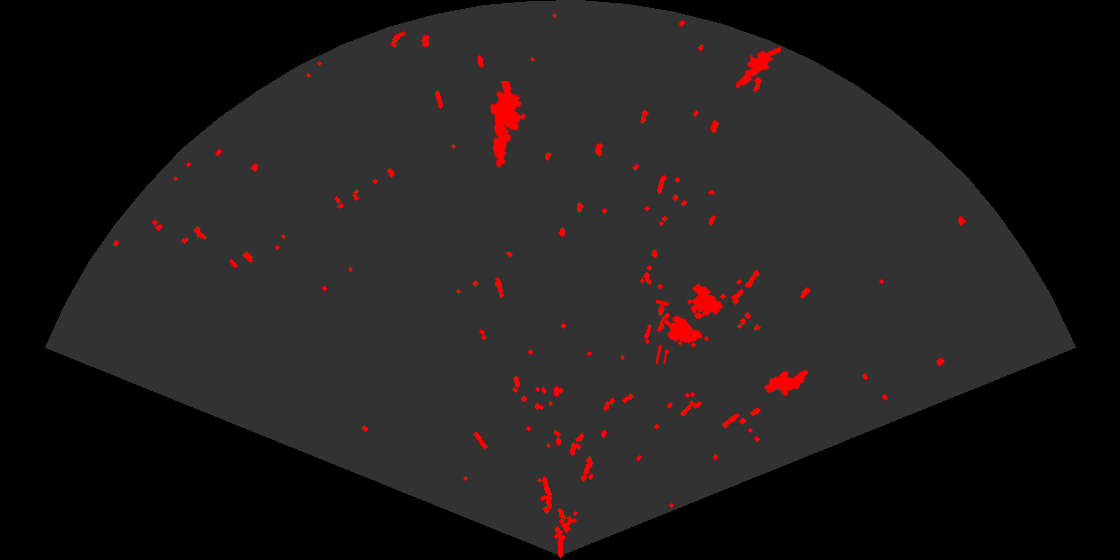AUV: (763, 368, 810, 398)
cage: (656, 282, 724, 364)
frogman: (488, 81, 528, 169), (726, 45, 781, 91)
